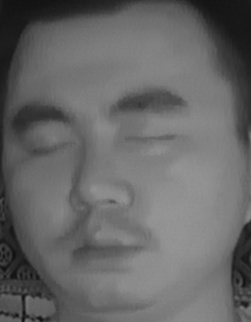blink: (127, 116, 177, 158), (27, 130, 72, 168)
mouth: (61, 217, 149, 272)
